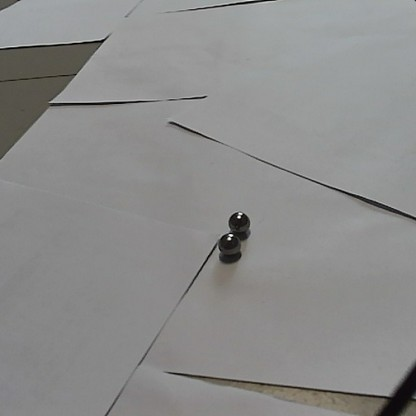ironball: (217, 234, 241, 260), (227, 209, 251, 234)
